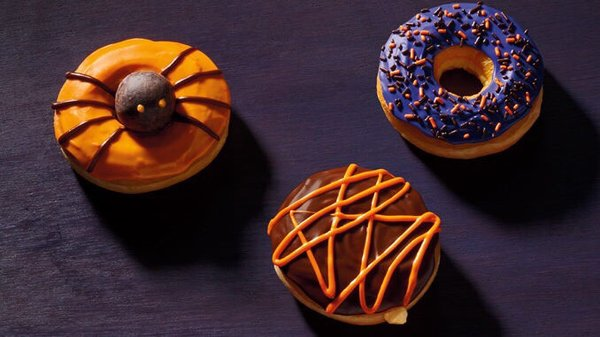salad: (267, 163, 444, 327), (376, 4, 545, 159)
